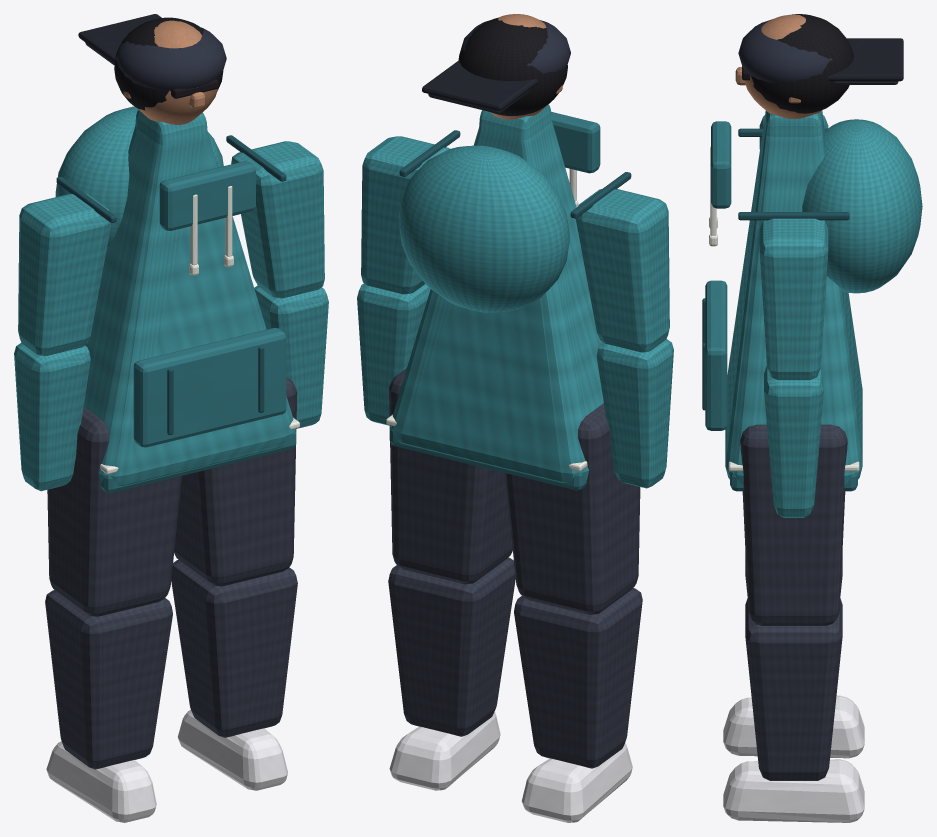
Rendered from ped_streetwear.glb.
The picture shows the model from 3 angles, left to right: view 1: azimuth 30°, elevation 25°; view 2: azimuth 150°, elevation 25°; view 3: azimuth 270°, elevation 25°; orthographic projection.
Parts seen in each view (by area): view 1: torso, upper_leg_R, lower_leg_R, lower_leg_L, upper_leg_L, pocket, upper_arm_R, upper_arm_L, lower_arm_R, hood, lower_arm_L, shoe_R (+9 smaller); view 2: torso, hood, upper_leg_R, lower_leg_R, lower_leg_L, upper_leg_L, upper_arm_R, lower_arm_R, upper_arm_L, lower_arm_L, hair, shoe_R (+8 smaller); view 3: torso, upper_leg_L, hood, lower_leg_L, upper_arm_L, lower_arm_L, shoe_L, hair, pocket, shoe_R, cap, cap_band (+3 smaller).
Part boxes in pixels (x1,y1,x2,y2): torso: [83, 109, 295, 485]; upper_leg_R: [47, 407, 181, 616]; lower_leg_R: [45, 590, 172, 769]; lower_leg_L: [171, 560, 297, 737]; upper_leg_L: [174, 377, 297, 586]; pocket: [133, 328, 286, 447]; upper_arm_R: [18, 193, 111, 356]; upper_arm_L: [231, 141, 324, 298]; lower_arm_R: [14, 342, 90, 491]; hood: [55, 106, 223, 246]; lower_arm_L: [254, 285, 328, 428]; shoe_R: [46, 741, 156, 822]; torso: [390, 104, 603, 483]; hood: [398, 145, 569, 312]; upper_leg_R: [505, 403, 640, 614]; lower_leg_R: [514, 588, 642, 768]; lower_leg_L: [388, 557, 515, 736]; upper_leg_L: [389, 368, 512, 584]; upper_arm_R: [576, 189, 669, 352]; lower_arm_R: [596, 339, 673, 488]; upper_arm_L: [361, 136, 449, 294]; lower_arm_L: [357, 283, 430, 425]; hair: [458, 17, 567, 115]; shoe_R: [522, 743, 632, 822]; torso: [725, 110, 862, 485]; upper_leg_L: [740, 424, 847, 625]; hood: [802, 119, 922, 293]; lower_leg_L: [745, 598, 842, 780]; upper_arm_L: [759, 218, 828, 380]; lower_arm_L: [764, 366, 823, 517]; shoe_L: [723, 759, 864, 822]; hair: [751, 14, 853, 113]; pocket: [705, 280, 727, 430]; shoe_R: [723, 695, 864, 758]; cap: [738, 19, 832, 83]; cap_band: [827, 38, 903, 81].
Bounding box in the file's own units: 0.7138 × 1.75 × 0.4568.
11 materials, 11 textured.
